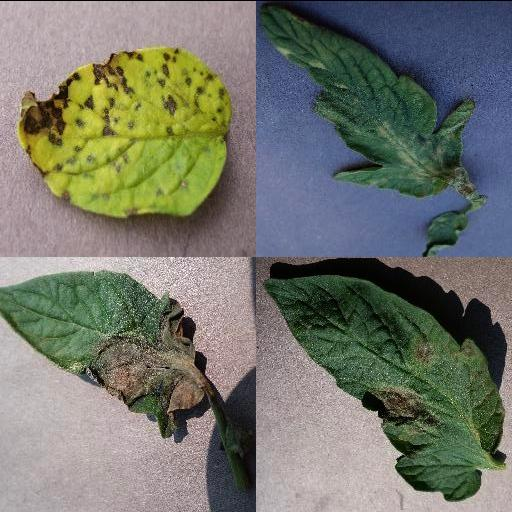Late Blight: (260, 274, 506, 500), (0, 271, 212, 441)
Leaf Mold: (257, 4, 473, 196)
Septoria: (18, 47, 234, 219)
